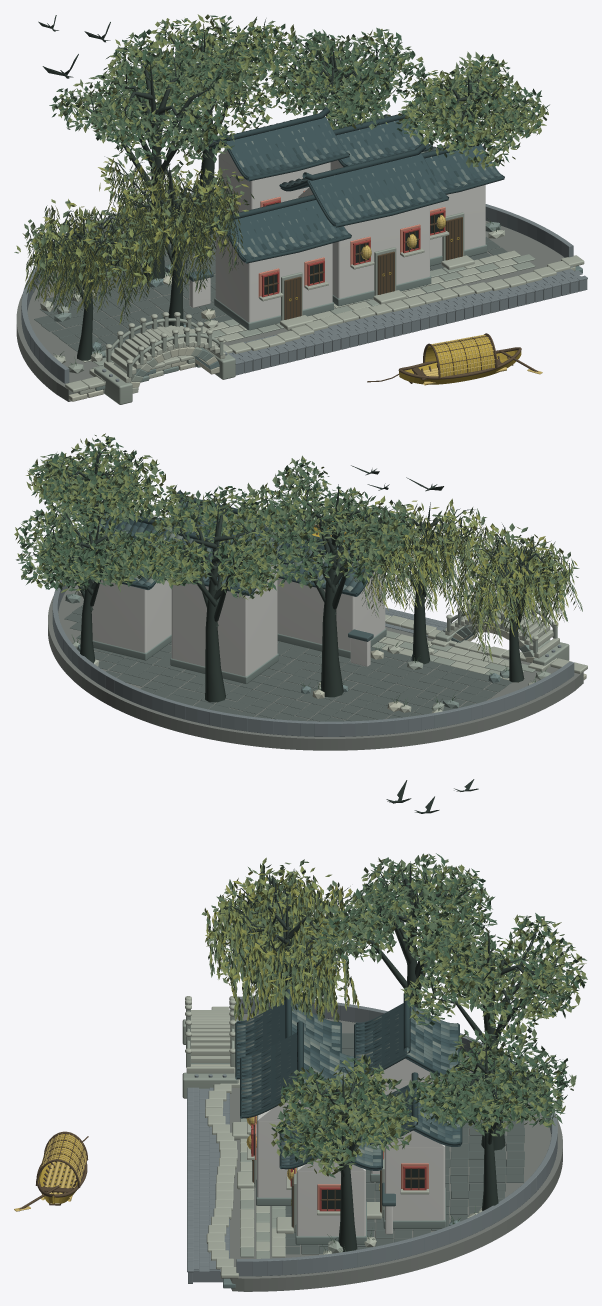
Rendered from jiangnan.glb.
3 views of the same model, one above another, from view 1: azimuth 30°, elevation 25°; view 2: azimuth 150°, elevation 25°; view 3: azimuth 270°, elevation 25° (orthographic). The views are drawn at different scales.
Visible parts, largest first — view 1: Trees, Village, BattleRoads, Bridge_Quay, Land, BambooBoat; view 2: Trees, BattleRoads, Village, Land, Bridge_Quay; view 3: Trees, Village, BattleRoads, Bridge_Quay, Land, BambooBoat.
Boxes of the visible parts, x1,y1,x2,y2 form: Trees: (14,14,549,373); Village: (201,107,504,330); BattleRoads: (21,188,587,383); Bridge_Quay: (65,250,584,404); Land: (16,208,576,401); BambooBoat: (367,333,542,385); Trees: (14,433,582,713); BattleRoads: (52,576,574,736); Village: (76,490,387,683); Land: (48,580,583,750); Bridge_Quay: (348,591,587,682); Trees: (201,853,587,1254); Village: (232,989,462,1244); BattleRoads: (187,996,557,1283); Bridge_Quay: (182,996,395,1288); Land: (229,1009,562,1291); BambooBoat: (14,1131,88,1211).
Size of the model in its own units: 72.09 by 34.31 by 61.38.
